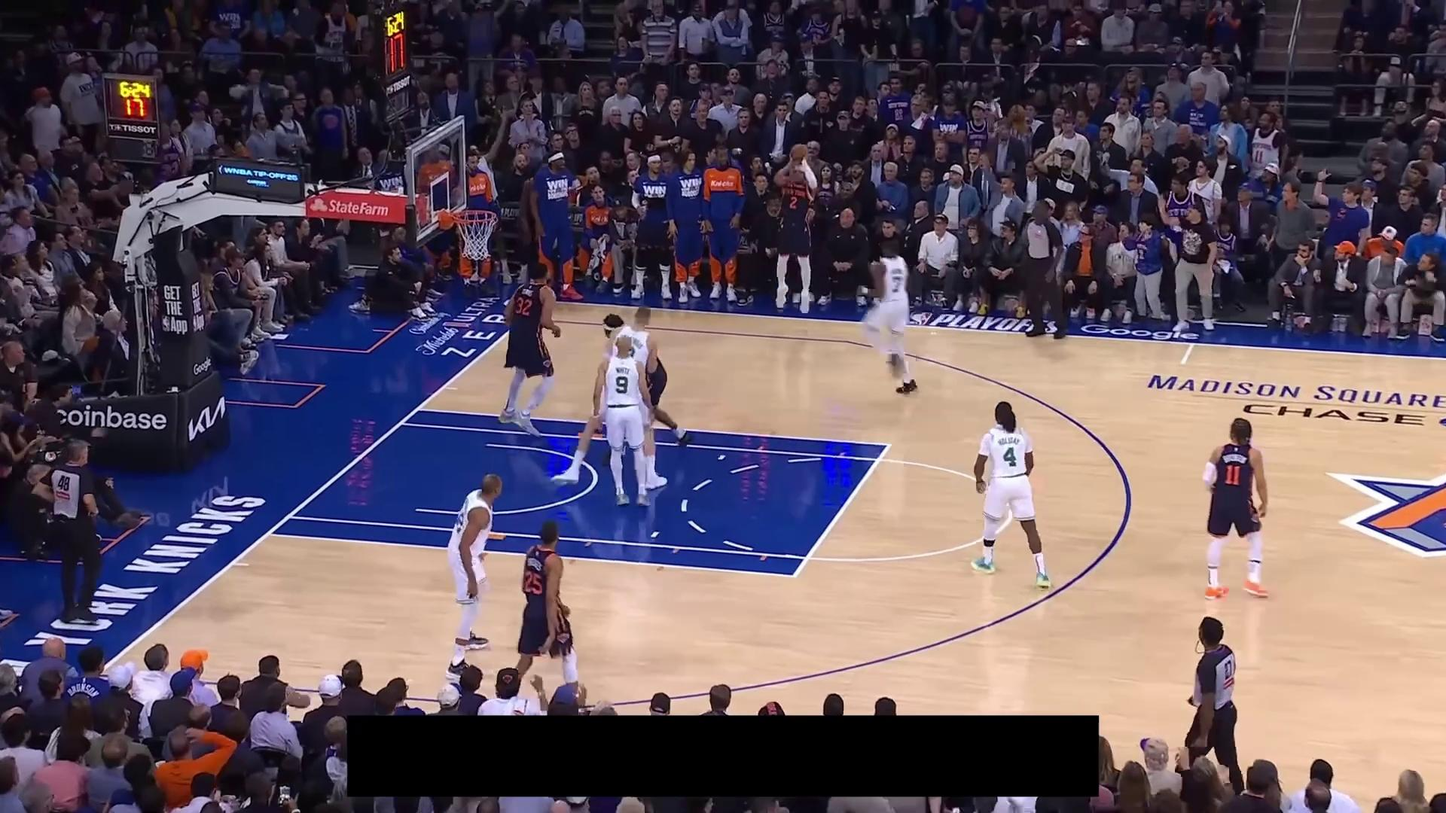ball: (790, 144, 808, 162)
number: (523, 570, 543, 595), (1224, 464, 1241, 486), (516, 296, 532, 317), (1003, 446, 1018, 467), (615, 375, 629, 394), (891, 276, 902, 293), (789, 196, 798, 210)
player: (551, 305, 668, 490), (971, 400, 1053, 590), (511, 518, 587, 709), (1201, 416, 1271, 601), (603, 313, 693, 450), (444, 472, 502, 676), (497, 260, 563, 433), (593, 334, 656, 508), (861, 237, 920, 395)
player-jump-shot: (774, 144, 818, 314)
referee: (34, 440, 108, 624), (1180, 616, 1245, 779), (1009, 196, 1067, 341)
rim: (453, 209, 498, 224)
